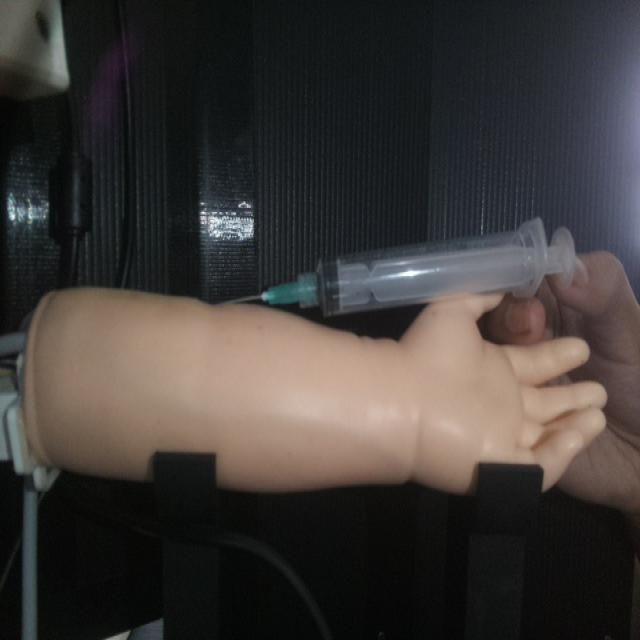Outside: (229, 213, 586, 319)
